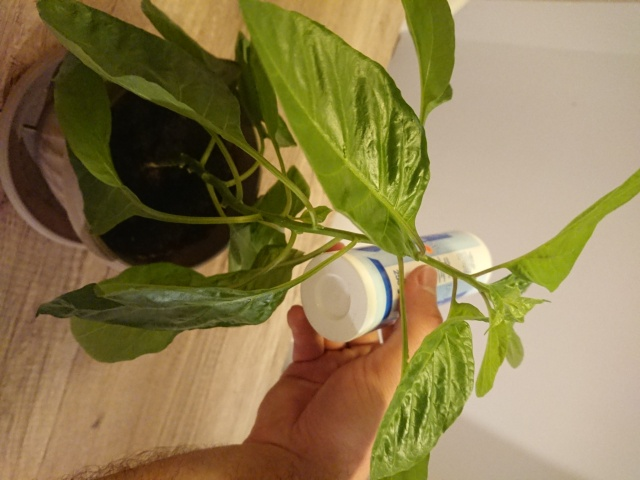Solana Pag Fine Sea Salt 250g: (298, 227, 495, 345)
